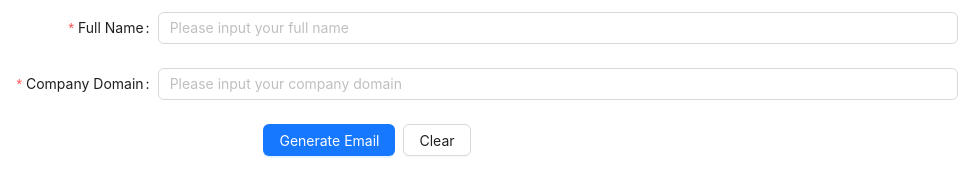
Test: AppCard › should show an error if invalid name is entered
Type "Appu%$##" into the field with placeholder "Please input your full name". click: (558, 28)
box: x1=158 y1=12 x2=958 y2=44
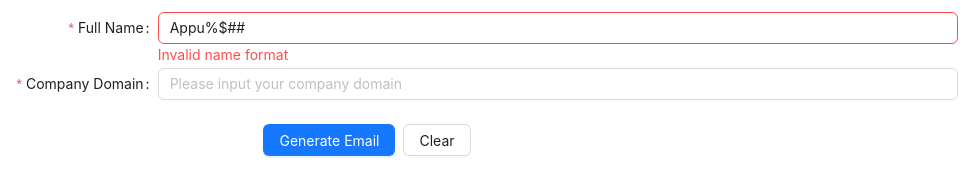
Expected: the text "Invalid name format" is shown, x1=158 y1=46 x2=288 y2=63
